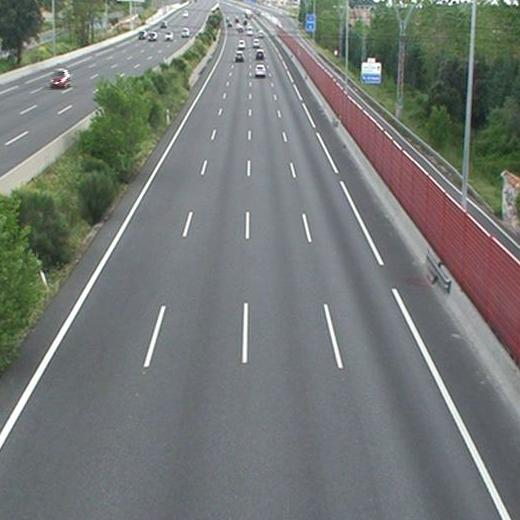car: (255, 65, 266, 76), (235, 52, 245, 61), (255, 50, 265, 59)
